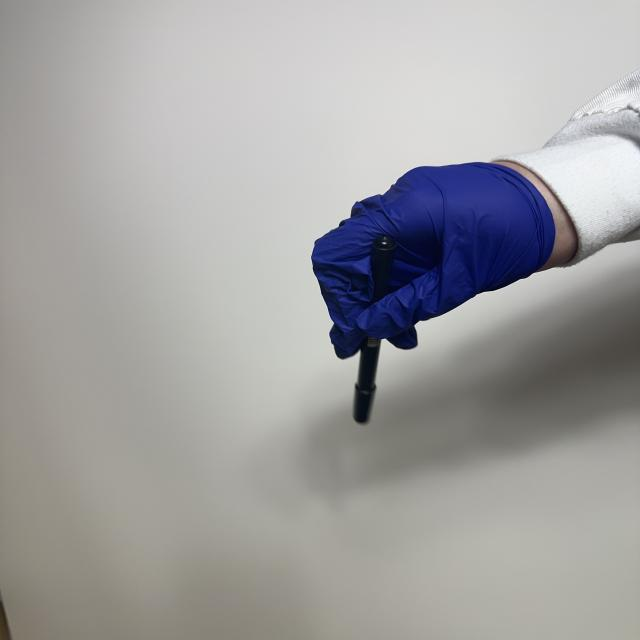glove_partial: (307, 157, 587, 364)
